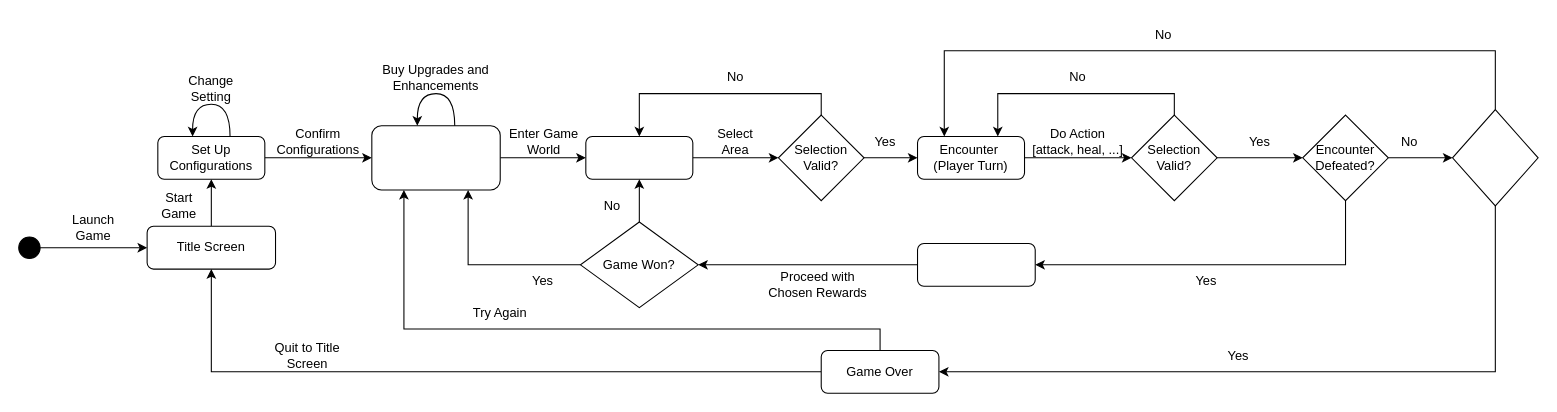
Image size: 1557x412. Some labels were removed from this diagram. Each missing label, with the centre of its shape:
"Central Hub" belongs at point (435, 157).
"Map Area Selection" belongs at point (639, 157).
"Player Defeated by Enemy?" belongs at point (1494, 157).
"Receive Rewards" belongs at point (975, 264).
